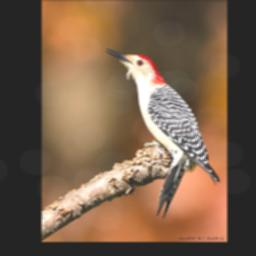Woodpecker: (105, 48, 222, 222)
